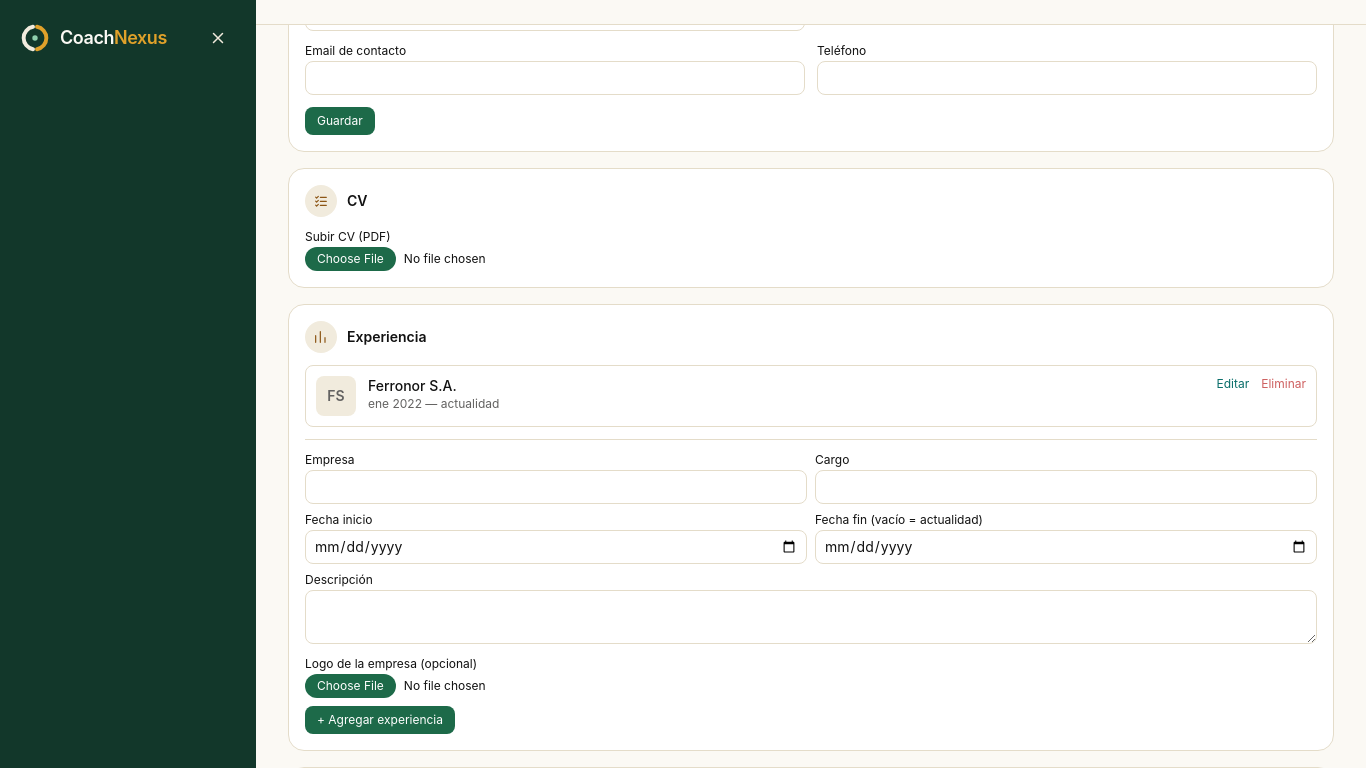
PerfilView › deletes an experiencia
The image size is (1366, 768).
(page scrolled)
Click the button "Eliminar". click: (1284, 384)
box: [1261,376,1306,392]
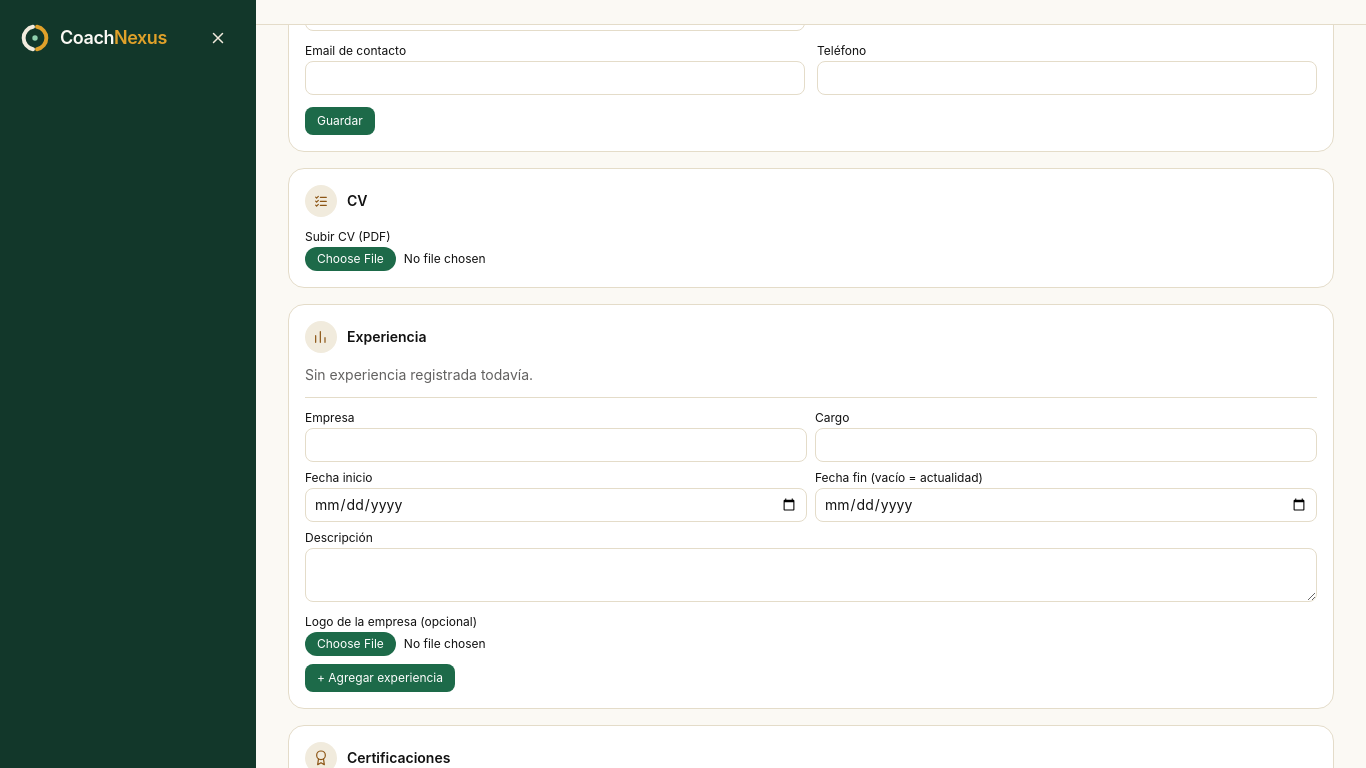
Expected: the text "Ferronor S.A." is gone
